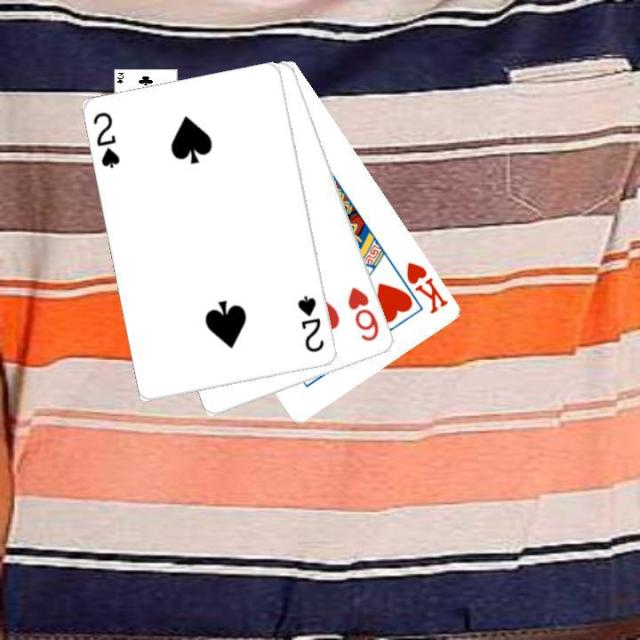2S: (294, 292, 326, 354), (90, 108, 122, 170)
6H: (344, 284, 381, 344)
KH: (402, 258, 450, 316)
